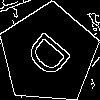D: (24, 29, 80, 86)
